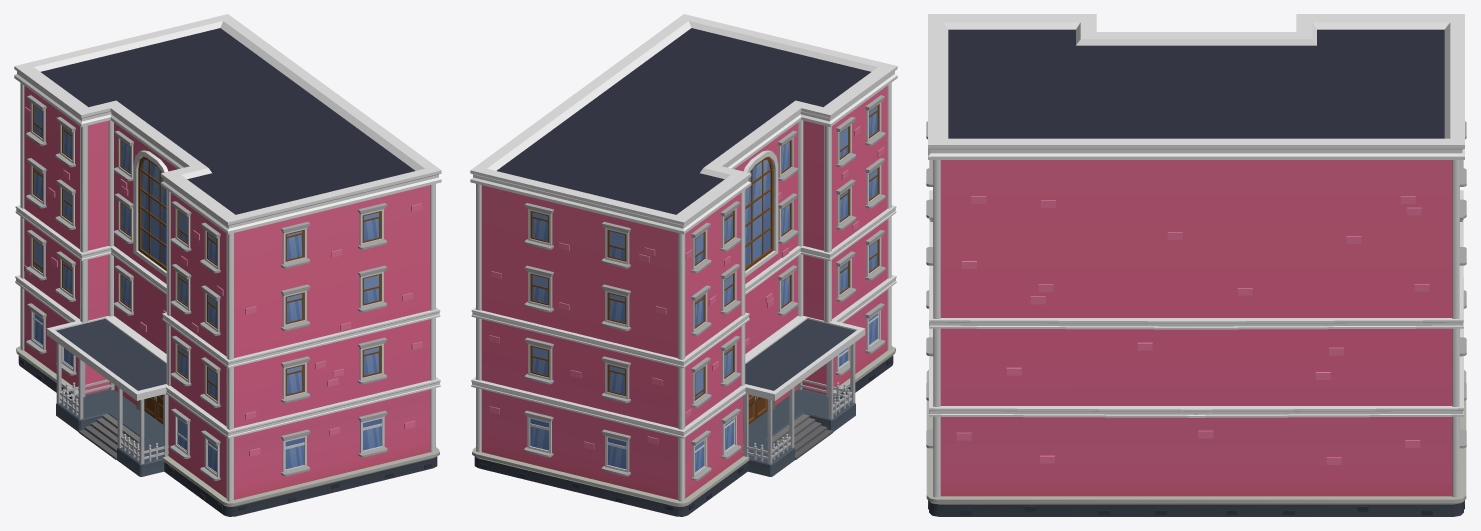
Rendered from Building_5_3_L.fbx.
The picture shows the model from 3 angles, left to right: view 1: azimuth 30°, elevation 25°; view 2: azimuth 150°, elevation 25°; view 3: azimuth 270°, elevation 25°; orthographic projection. The views are drawn at different scales.
Visible parts, largest first — view 1: Building_5_3_L; view 2: Building_5_3_L; view 3: Building_5_3_L.
Part boxes in pixels (left/top/right/bottom): Building_5_3_L: left=14, top=14, right=441, bottom=516; Building_5_3_L: left=470, top=14, right=897, bottom=516; Building_5_3_L: left=926, top=14, right=1466, bottom=516.
Size of the model in its own units: 1251 by 1450 by 1908.
